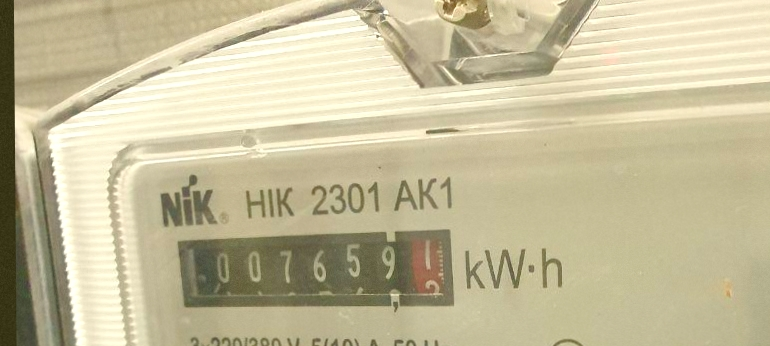0: (244, 246, 264, 286), (213, 248, 233, 286)
1: (416, 236, 436, 273)
5: (342, 240, 364, 280)
6: (308, 244, 330, 286)
7: (275, 246, 297, 285)
9: (378, 242, 399, 282)
screen: (167, 223, 460, 318)
